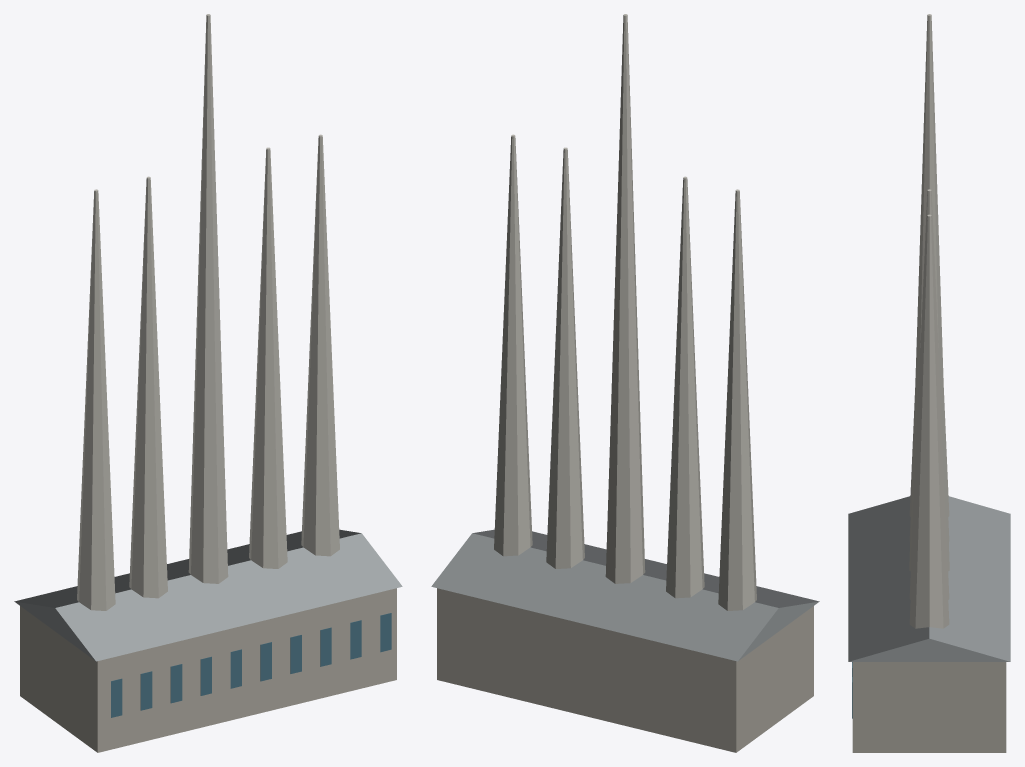
Rendered from source.glb.
3 views of the same model, side by side, from view 1: azimuth 30°, elevation 25°; view 2: azimuth 150°, elevation 25°; view 3: azimuth 270°, elevation 25° (orthographic).
Visible parts, largest first — view 1: worldgen; view 2: worldgen; view 3: worldgen.
Part boxes in pixels (x1,y1,x2,y2): worldgen: (14,14,402,752); worldgen: (431,14,819,752); worldgen: (848,14,1010,752).
Bounding box in the file's own units: 82 × 172 × 38.
